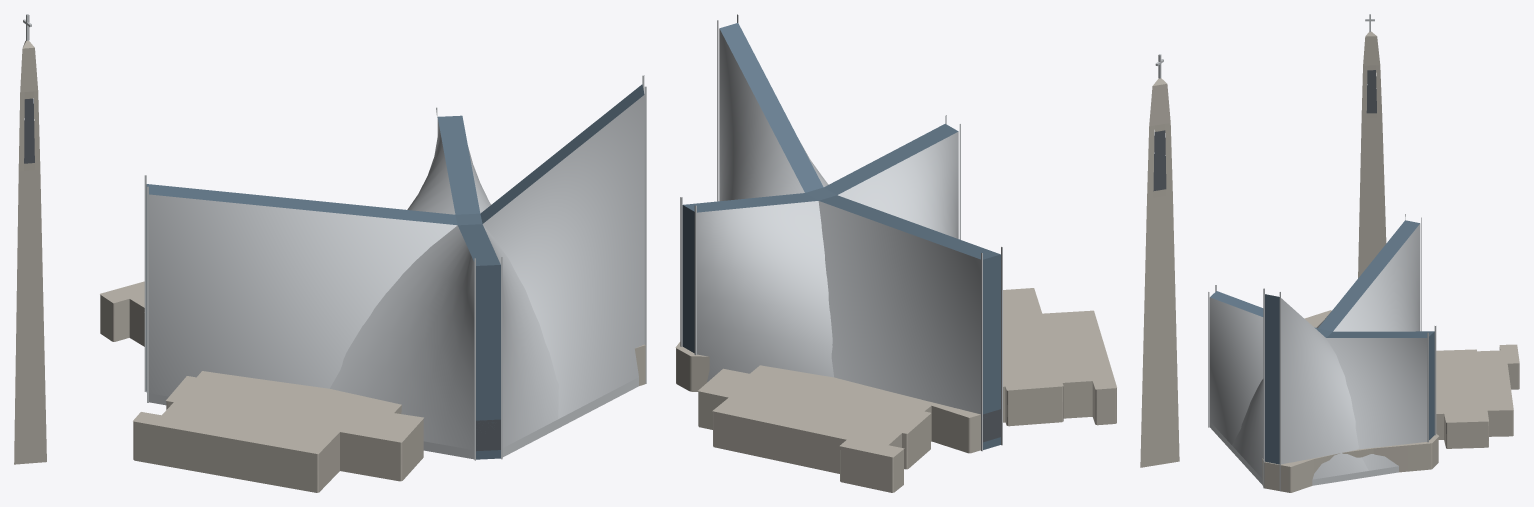
The model's file is tokyo-st-marys-cathedral.glb.
3 renders of one model, left to right at view 1: azimuth 30°, elevation 25°; view 2: azimuth 150°, elevation 25°; view 3: azimuth 270°, elevation 25°, orthographic. The views are drawn at different scales.
Parts seen in each view (by area): view 1: St. Mary's Cathedral, Tokyo; view 2: St. Mary's Cathedral, Tokyo; view 3: St. Mary's Cathedral, Tokyo.
Part boxes in pixels (x1=…): St. Mary's Cathedral, Tokyo: x1=14, y1=14, x2=646, y2=492; St. Mary's Cathedral, Tokyo: x1=675, y1=14, x2=1179, y2=492; St. Mary's Cathedral, Tokyo: x1=1208, y1=14, x2=1519, y2=492.
Bounding box in the file's own units: 84.44 × 62.4 × 59.31.
